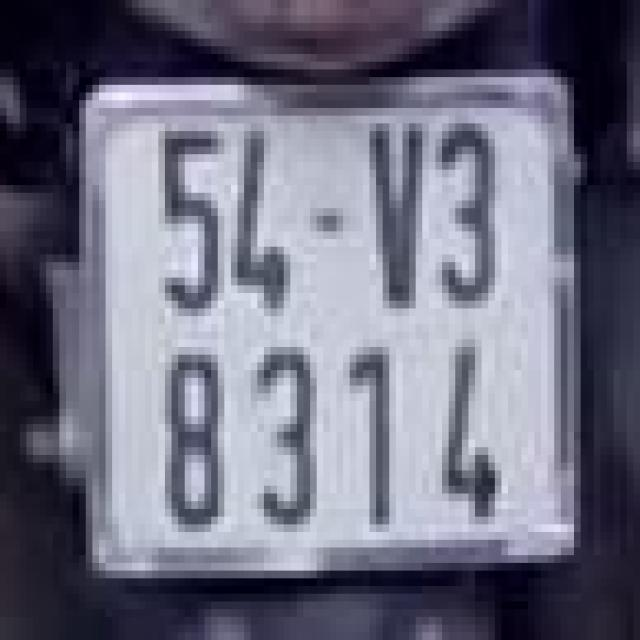1: (343, 339, 409, 540)
3: (436, 104, 514, 312), (251, 332, 330, 532)
4: (432, 324, 525, 532), (228, 112, 300, 320)
5: (158, 116, 224, 324)
8: (152, 336, 231, 544)
V: (363, 96, 429, 320)
